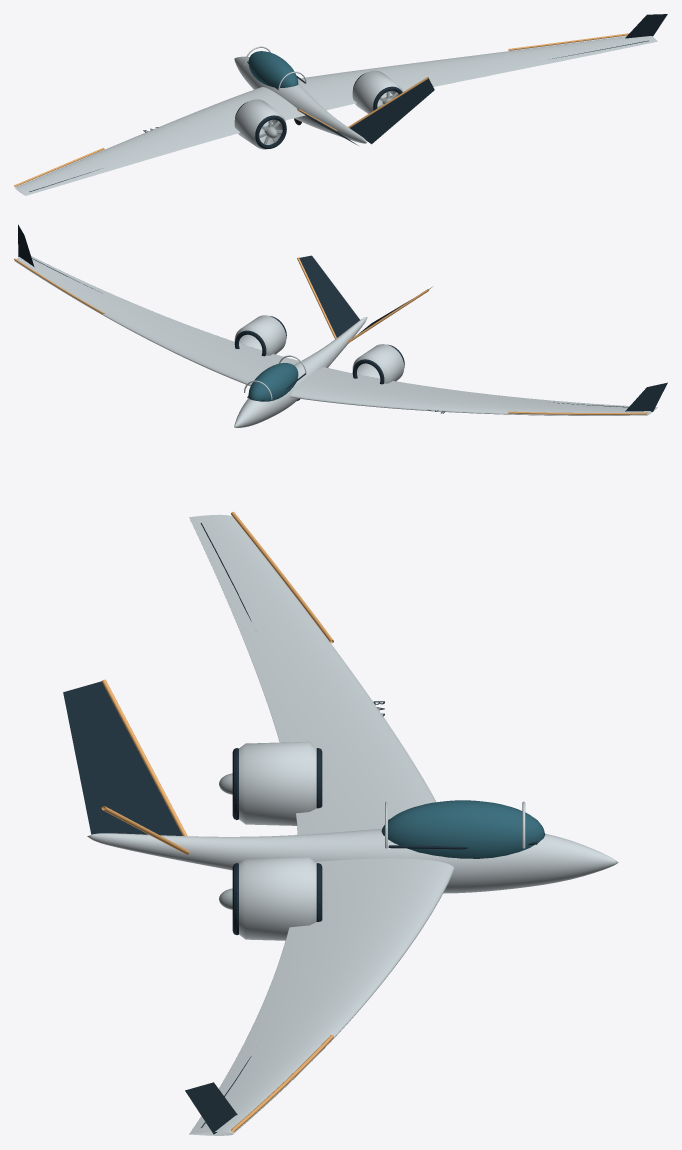
The model's file is skywing.glb.
The picture shows the model from 3 angles, top to bottom: view 1: azimuth 30°, elevation 25°; view 2: azimuth 150°, elevation 25°; view 3: azimuth 270°, elevation 25°; orthographic projection. The views are drawn at different scales.
Parts seen in each view (by area): view 1: Swept manta wing.001, Swept manta wing, Sculpted composite fuselage, Butterfly tail.001, Sculpted electric fan nacelle, Clear bubble canopy, Sculpted electric fan nacelle.001, Raked carbon wingtip.001, Torus.001, Copper leading-edge inlay.001; view 2: Swept manta wing, Swept manta wing.001, Sculpted composite fuselage, Butterfly tail.001, Clear bubble canopy, Sculpted electric fan nacelle.001, Sculpted electric fan nacelle, Raked carbon wingtip, Copper leading-edge inlay, Raked carbon wingtip.001; view 3: Swept manta wing, Swept manta wing.001, Sculpted composite fuselage, Butterfly tail, Clear bubble canopy, Sculpted electric fan nacelle, Sculpted electric fan nacelle.001, Raked carbon wingtip.001.
Part boxes in pixels (x1,y1,x2,y2): Swept manta wing.001: [298, 36, 657, 110]; Swept manta wing: [15, 87, 305, 195]; Sculpted composite fuselage: [234, 56, 367, 143]; Butterfly tail.001: [350, 78, 434, 144]; Sculpted electric fan nacelle: [234, 99, 286, 149]; Clear bubble canopy: [248, 51, 298, 87]; Sculpted electric fan nacelle.001: [352, 70, 403, 113]; Raked carbon wingtip.001: [625, 14, 667, 38]; Torus.001: [255, 115, 286, 148]; Copper leading-edge inlay.001: [508, 33, 628, 50]; Swept manta wing: [290, 367, 657, 415]; Swept manta wing.001: [15, 256, 299, 386]; Sculpted composite fuselage: [234, 317, 367, 427]; Butterfly tail.001: [299, 255, 359, 337]; Clear bubble canopy: [248, 363, 298, 401]; Sculpted electric fan nacelle.001: [234, 315, 286, 355]; Sculpted electric fan nacelle: [352, 344, 404, 383]; Raked carbon wingtip: [625, 382, 667, 411]; Copper leading-edge inlay: [508, 411, 647, 414]; Raked carbon wingtip.001: [18, 224, 34, 266]; Swept manta wing: [189, 514, 436, 834]; Swept manta wing.001: [189, 858, 454, 1135]; Sculpted composite fuselage: [87, 828, 618, 893]; Butterfly tail: [63, 681, 182, 835]; Clear bubble canopy: [381, 800, 545, 858]; Sculpted electric fan nacelle: [239, 741, 316, 825]; Sculpted electric fan nacelle.001: [239, 857, 316, 940]; Raked carbon wingtip.001: [185, 1082, 237, 1134].
Bounding box in the file's own units: 25.9 × 3.03 × 9.59.
